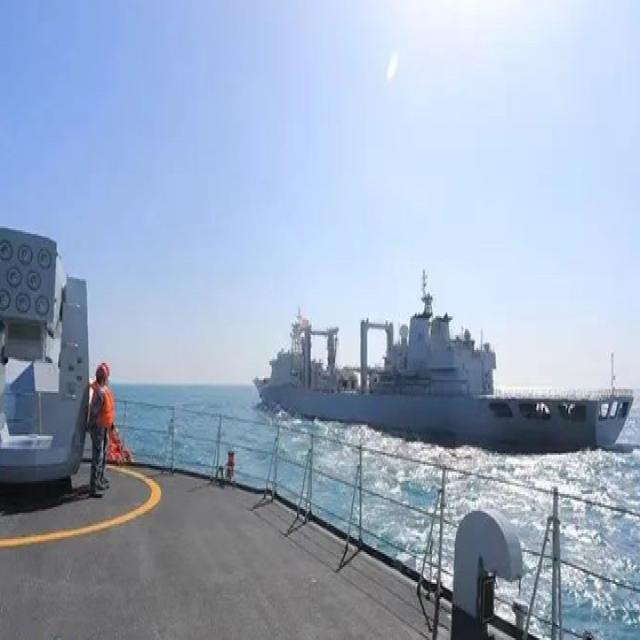navalvessels: (250, 249, 640, 458)
